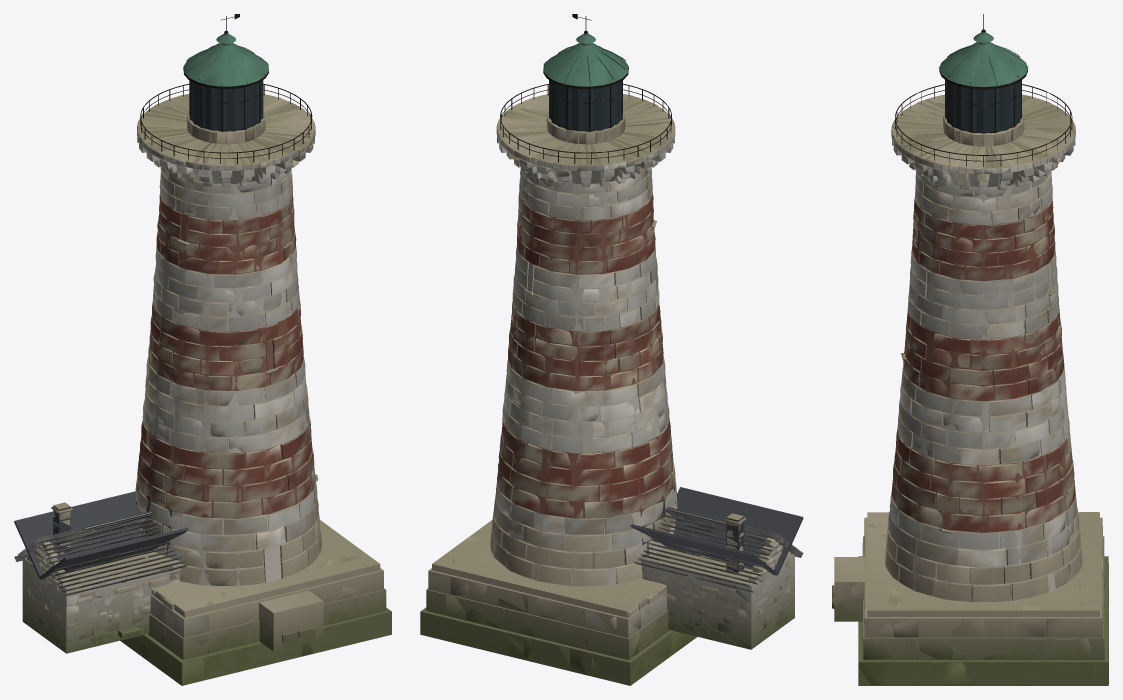
Rendered from lighthouse_stone.glb.
The picture shows the model from 3 angles, left to right: view 1: azimuth 30°, elevation 25°; view 2: azimuth 150°, elevation 25°; view 3: azimuth 270°, elevation 25°; orthographic projection. The views are drawn at different scales.
Parts seen in each view (by area): view 1: lighthouse_stone, lighthouse_stone_far, lighthouse_iron, lighthouse_glass; view 2: lighthouse_stone, lighthouse_stone_far, lighthouse_iron, lighthouse_glass; view 3: lighthouse_stone, lighthouse_stone_far, lighthouse_iron, lighthouse_glass.
Part boxes in pixels (left/top/right/bottom): lighthouse_stone: left=14, top=94, right=374, bottom=685; lighthouse_stone_far: left=14, top=33, right=391, bottom=685; lighthouse_iron: left=140, top=14, right=312, bottom=163; lighthouse_glass: left=190, top=81, right=259, bottom=130; lighthouse_stone: left=421, top=94, right=803, bottom=684; lighthouse_stone_far: left=420, top=33, right=803, bottom=685; lighthouse_iron: left=500, top=14, right=671, bottom=163; lighthouse_glass: left=553, top=81, right=621, bottom=130; lighthouse_stone: left=832, top=95, right=1108, bottom=685; lighthouse_stone_far: left=834, top=31, right=1108, bottom=685; lighthouse_iron: left=895, top=14, right=1072, bottom=166; lighthouse_glass: left=946, top=81, right=1021, bottom=131.
Bounding box in the file's own units: 31.91 × 62.2 × 25.22.
